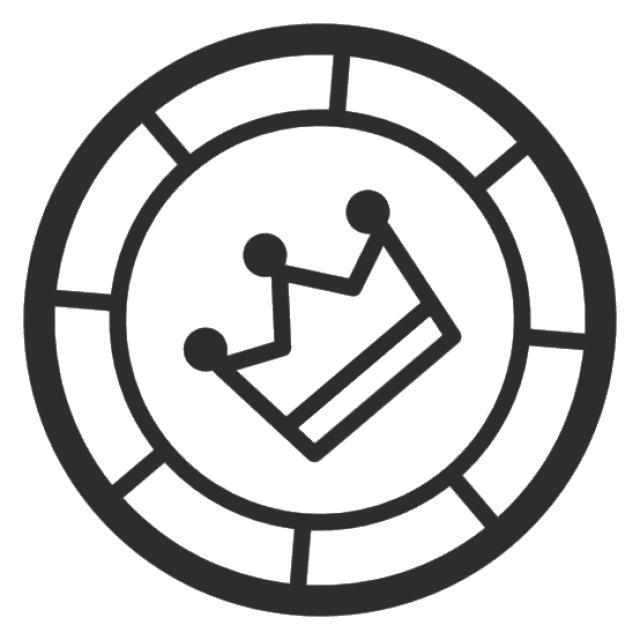coin: (15, 12, 628, 631)
